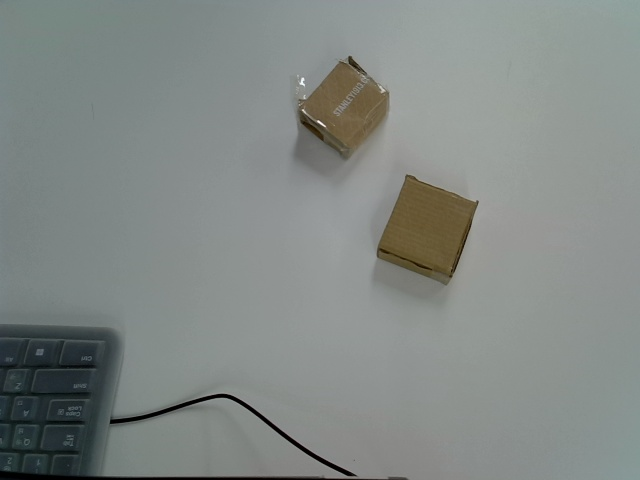defect: (293, 56, 394, 161)
normal: (376, 173, 478, 286)
